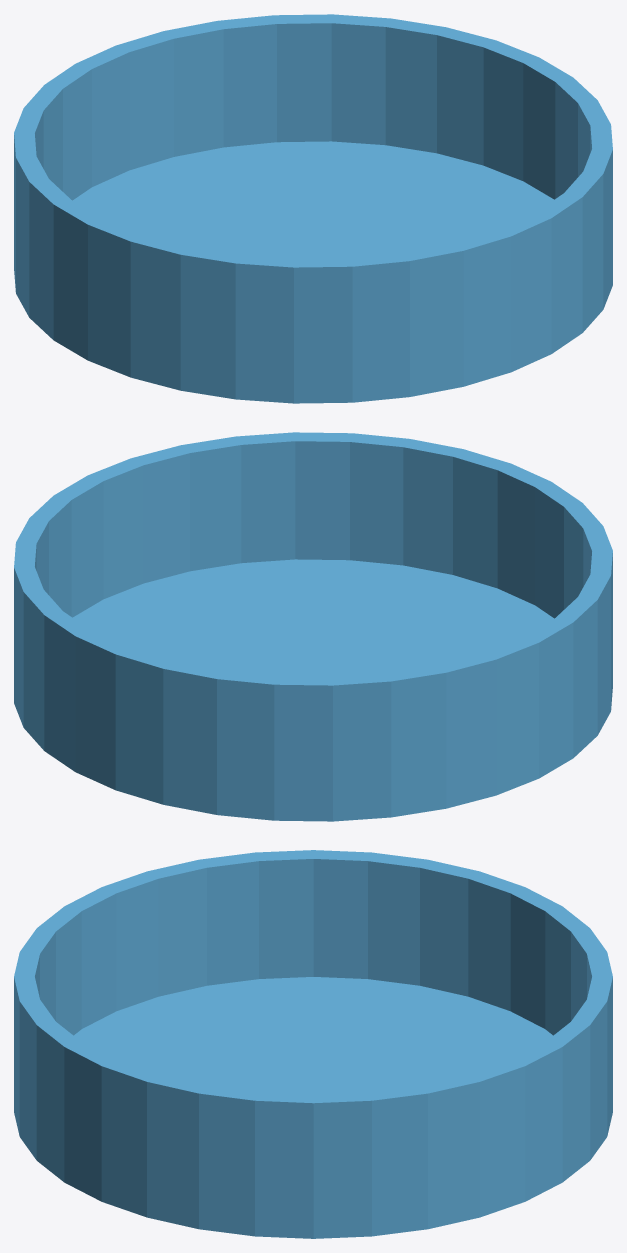
File: pool.glb
The picture shows the model from 3 angles, top to bottom: view 1: azimuth 30°, elevation 25°; view 2: azimuth 150°, elevation 25°; view 3: azimuth 270°, elevation 25°; orthographic projection.
Parts seen in each view (by area): view 1: Cylinder; view 2: Cylinder; view 3: Cylinder.
Part boxes in pixels (x1,y1,x2,y2): Cylinder: [14, 14, 612, 403]; Cylinder: [14, 432, 612, 821]; Cylinder: [14, 850, 612, 1238].
Bounding box in the file's own units: 8 × 2 × 8.
